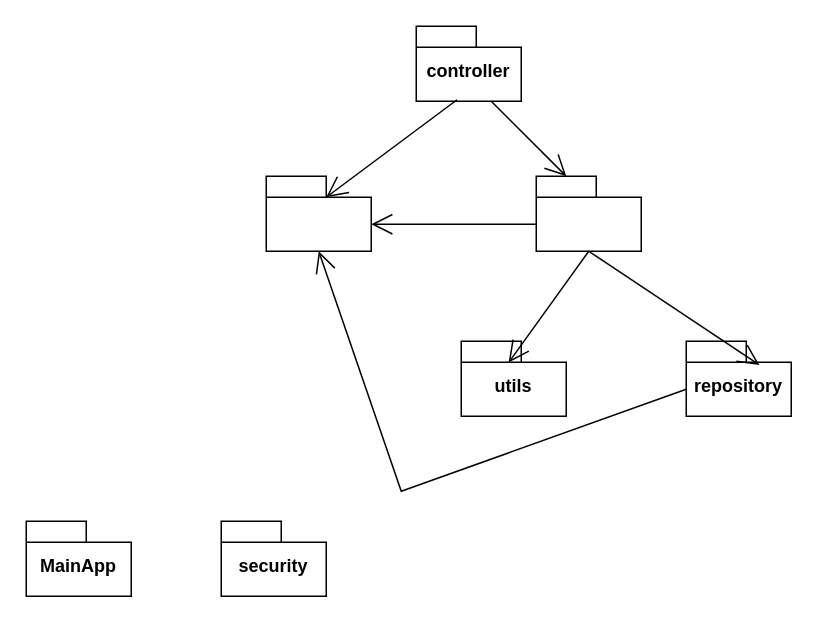
Some shapes in this 818 by 623 pixel diagram are drawn without their labels. Each missing label, with the centre of its shape:
"models" goes at (318,213).
"service" goes at (588,213).
